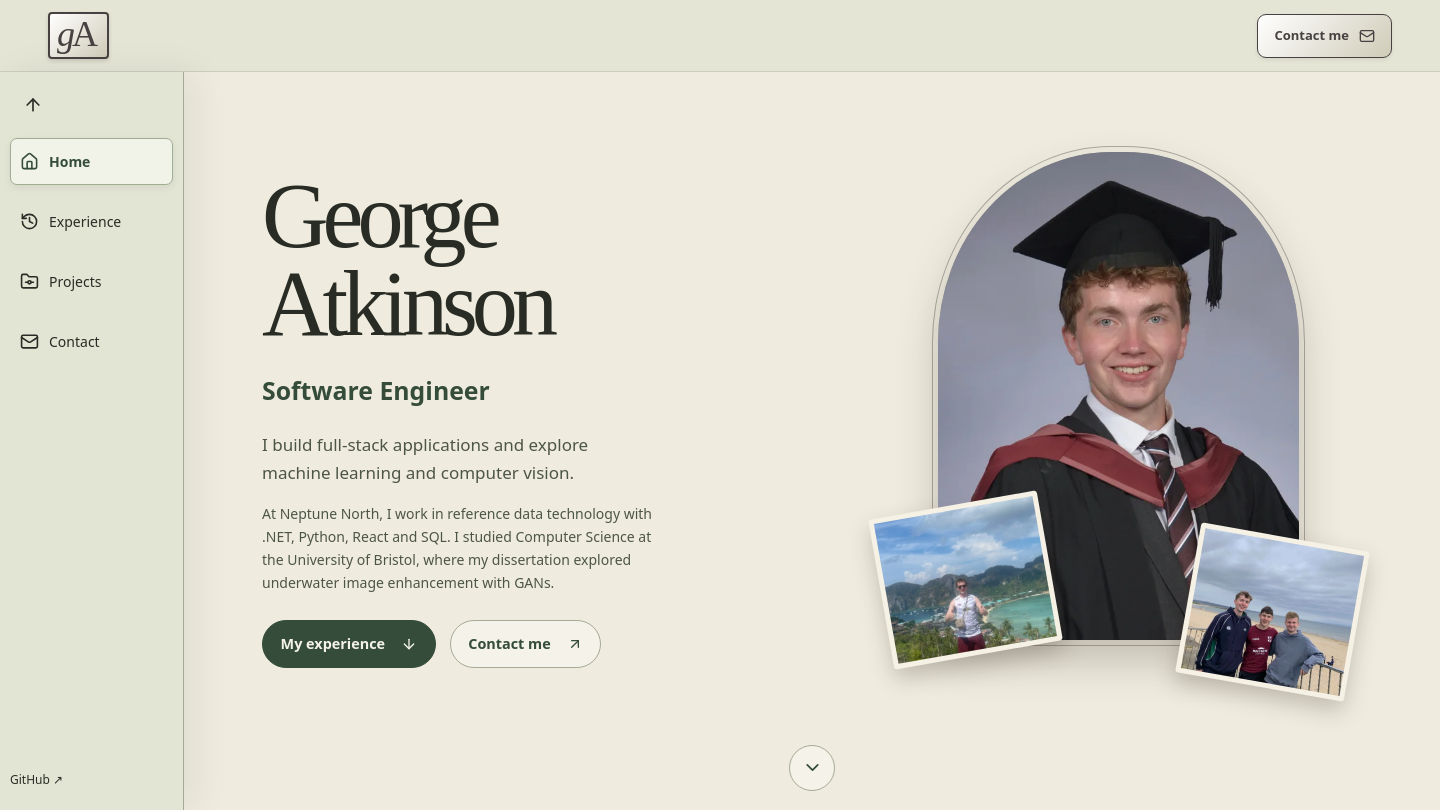
the hero presents all three personal photos together
Expected: the picture named "friends at the beach" is shown, [1180, 528, 1363, 696]
Click the 1st button named "coastal viewpoint": x=965, y=580 [868, 490, 1062, 670]
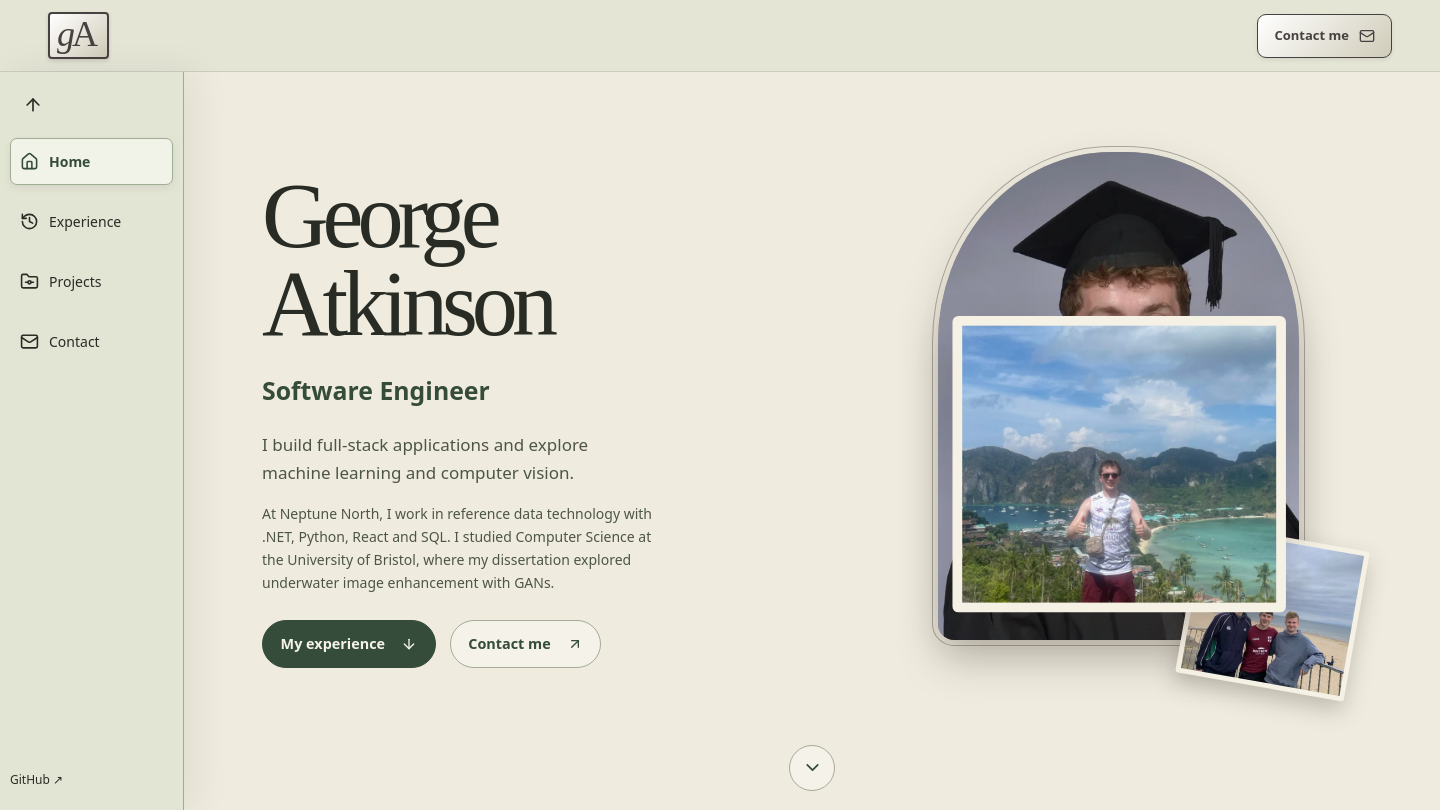
Expected: the 1st button named "coastal viewpoint" is pressed, [952, 316, 1285, 613]
Click the 2nd button named "friends at the beach": x=1272, y=612 [1175, 523, 1369, 702]
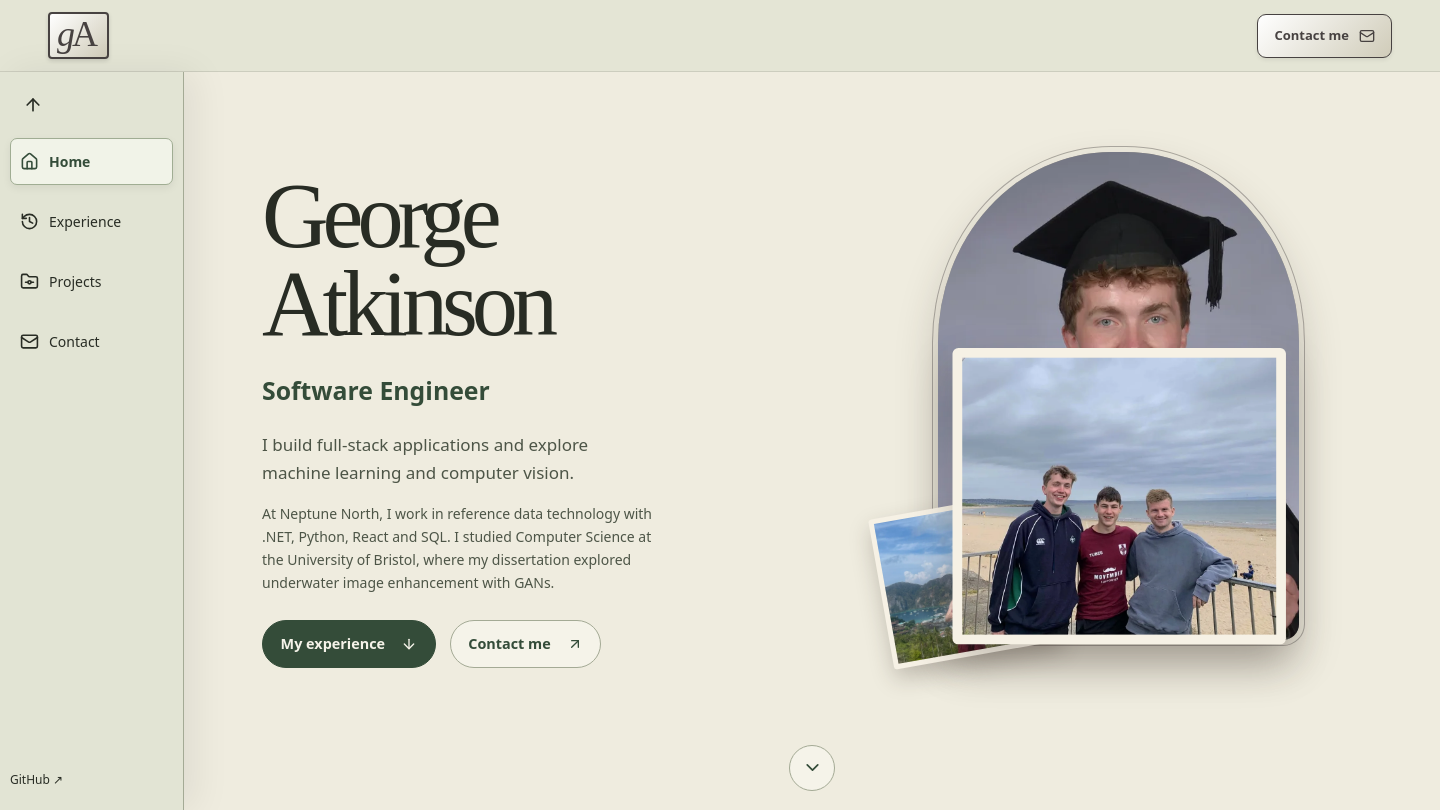
Expected: the 2nd button named "coastal viewpoint" is not pressed, [868, 490, 1062, 670]
Expected: the button named "friends at the beach" is pressed
Press Escape in the button named "friends at the beach", box [952, 348, 1285, 645]
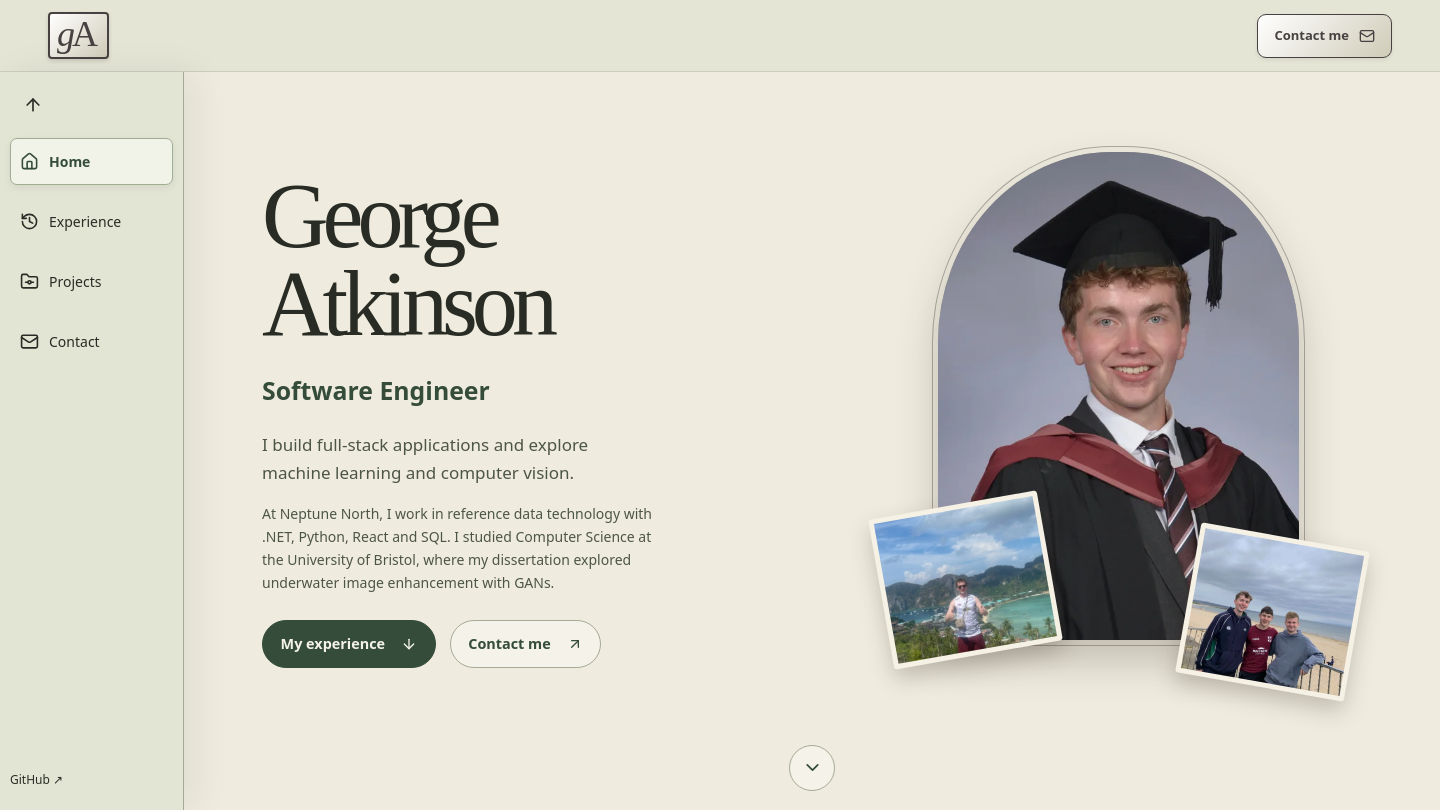
Expected: the 2nd button named "friends at the beach" is not pressed, [1175, 523, 1369, 702]
